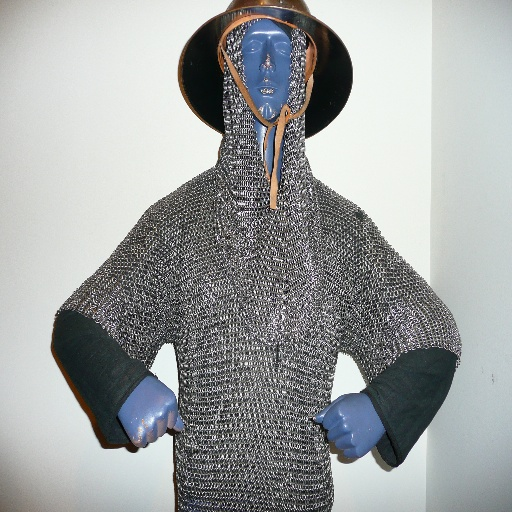hand: (318, 372, 414, 469), (117, 372, 184, 448)
